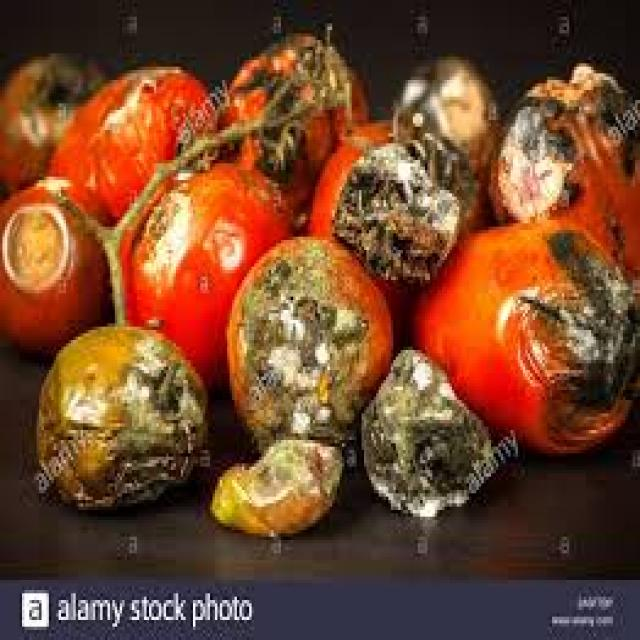organic waste: (408, 214, 637, 454), (300, 103, 479, 337), (125, 157, 298, 393), (220, 227, 393, 453), (483, 60, 638, 287), (32, 320, 205, 503), (41, 60, 218, 233), (218, 27, 366, 193), (356, 340, 494, 510), (0, 166, 107, 356), (388, 50, 504, 223), (332, 137, 454, 280), (0, 47, 105, 193), (205, 437, 337, 533)
